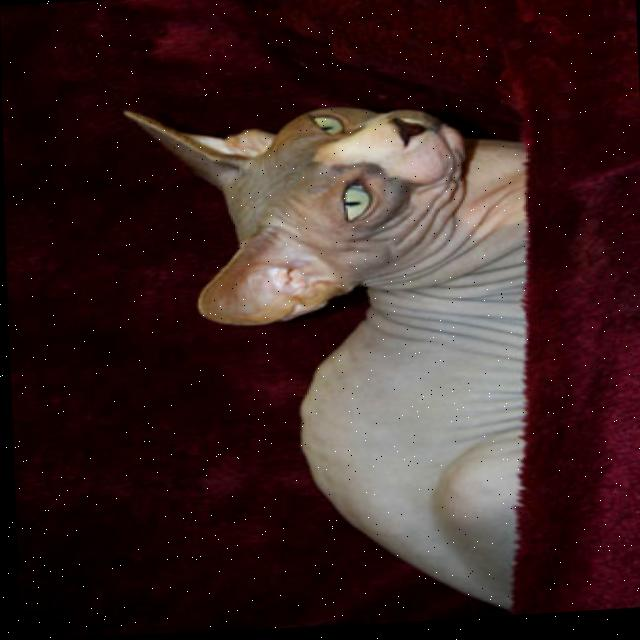Sphynx: (115, 87, 555, 636)
